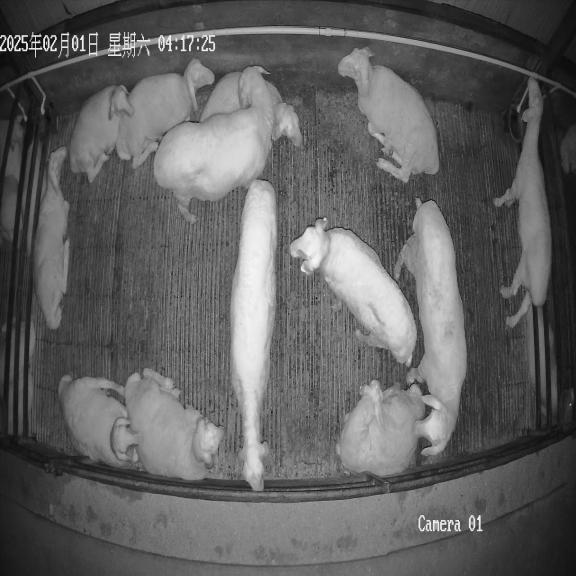lying: (338, 48, 439, 182), (116, 58, 214, 168), (125, 372, 223, 480), (336, 380, 425, 477), (58, 376, 140, 467), (200, 72, 300, 141), (34, 146, 70, 330), (69, 85, 134, 181)
stand: (153, 67, 276, 222), (290, 218, 416, 367), (395, 199, 467, 457), (230, 179, 277, 491), (494, 78, 551, 328)
